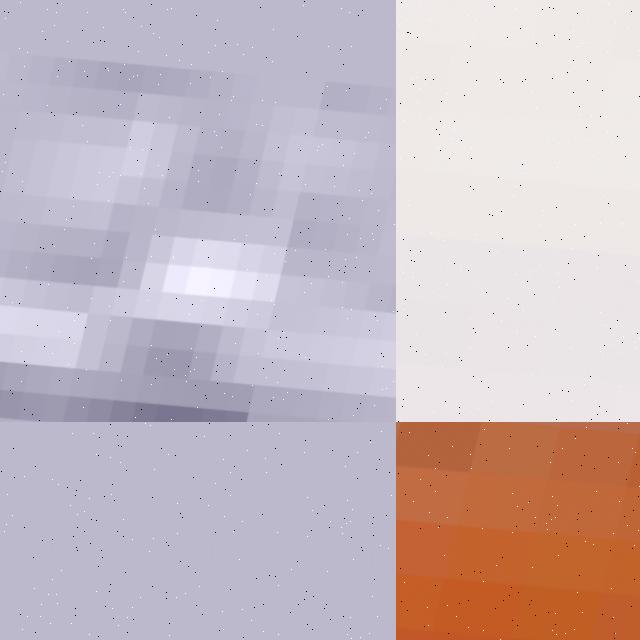0: (0, 0, 396, 422)
drone: (396, 0, 640, 422), (396, 422, 640, 640)
